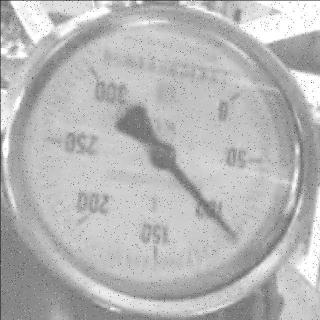gauge: (0, 0, 320, 320), (75, 56, 111, 102), (214, 80, 256, 118), (150, 141, 178, 172), (226, 231, 240, 246)
